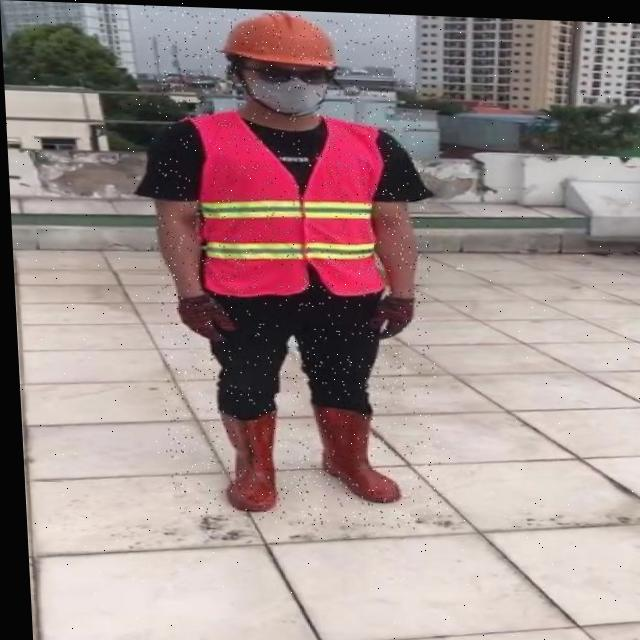Gloves: (175, 290, 236, 341), (365, 291, 414, 338)
Helmet: (219, 7, 338, 69)
Safety-Boot: (309, 398, 397, 500), (216, 402, 278, 510)
Safety-Vest: (180, 106, 390, 300)
